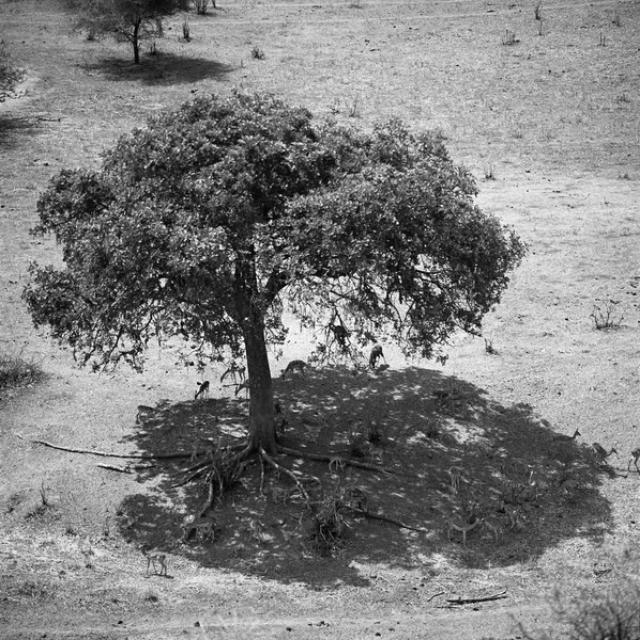Tree: (22, 94, 526, 452)
